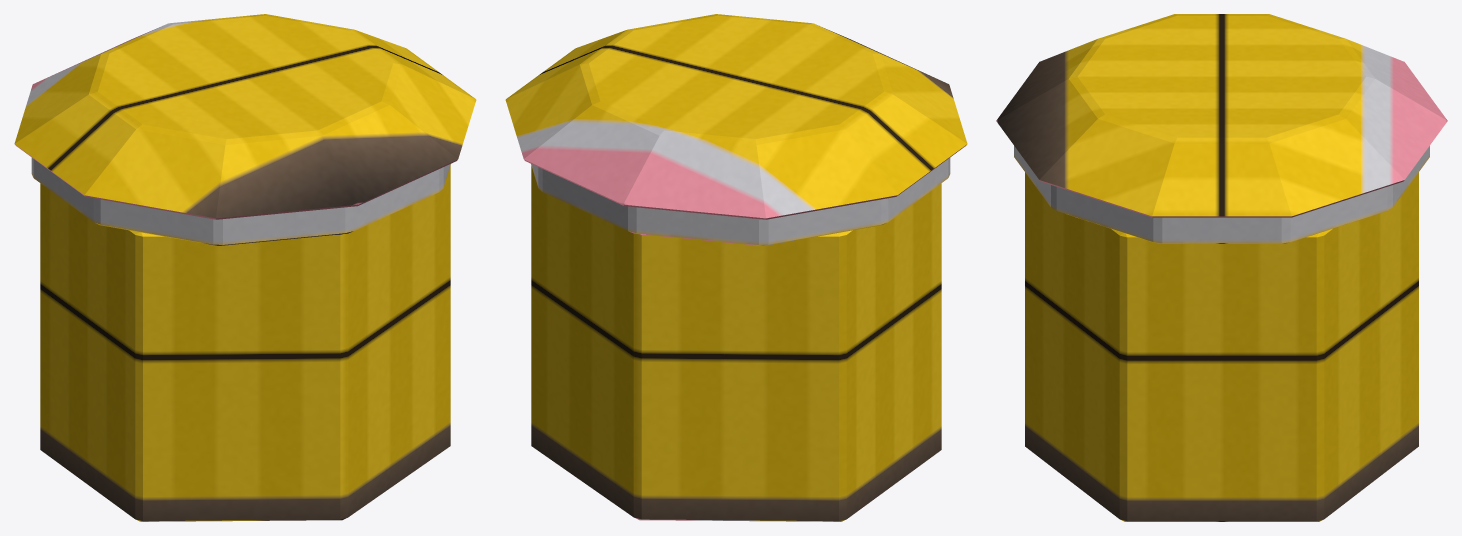
The model's file is Pencil.glb.
3 renders of one model, left to right at view 1: azimuth 30°, elevation 25°; view 2: azimuth 150°, elevation 25°; view 3: azimuth 270°, elevation 25°, orthographic.
Visible parts, largest first — view 1: Pencil; view 2: Pencil; view 3: Pencil.
Boxes of the visible parts, x1,y1,x2,y2 form: Pencil: (14,14,476,521); Pencil: (505,14,967,521); Pencil: (996,14,1447,521).
Size of the model in its own units: 1 by 1 by 1.
1 material, 1 textured.
